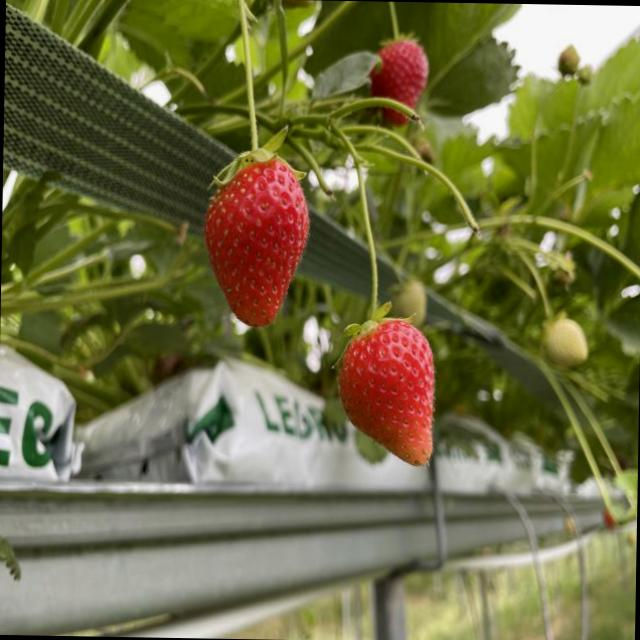stem: (213, 0, 286, 186), (345, 162, 392, 336)
strawberryR: (204, 158, 309, 327), (338, 318, 432, 465)
